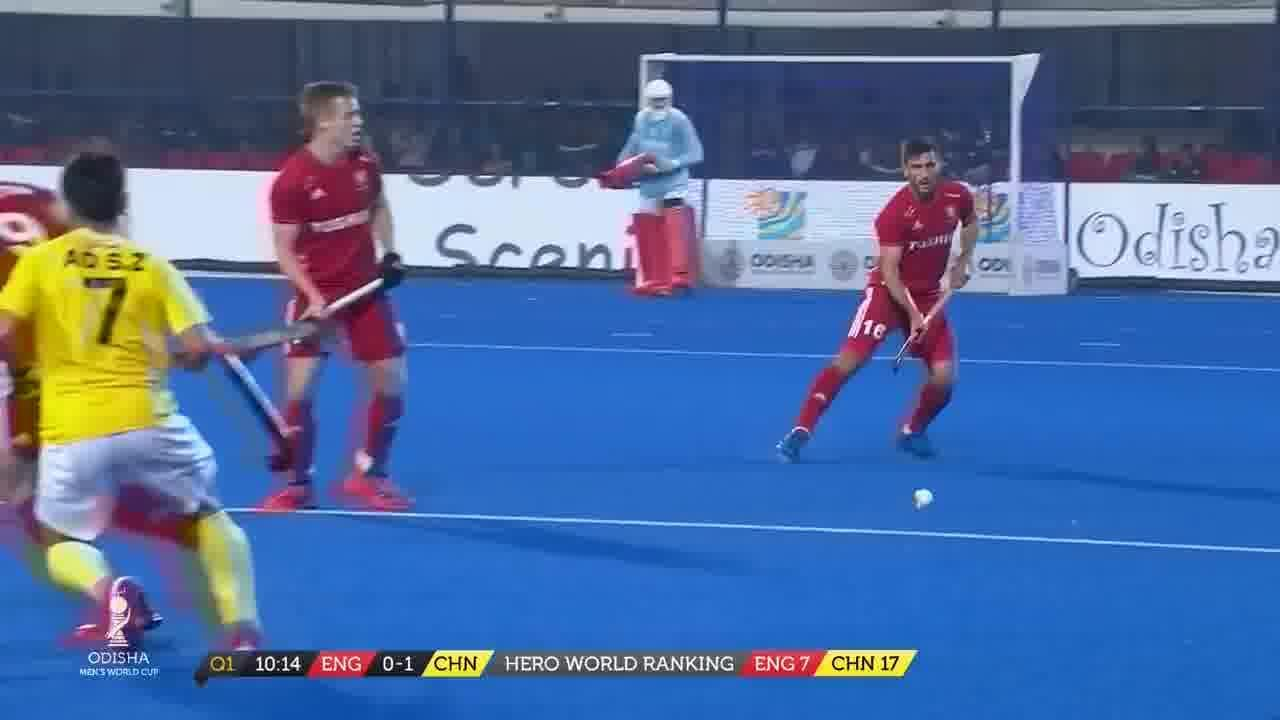ball: (910, 480, 938, 513)
